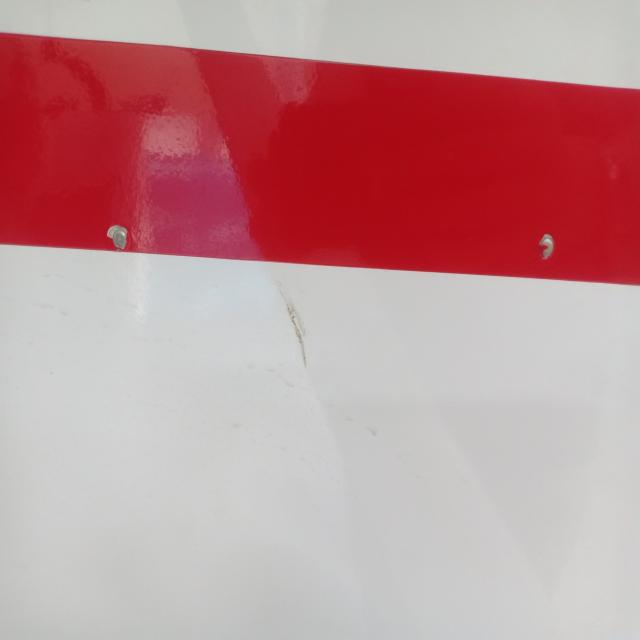Rupture: (252, 224, 324, 408), (107, 190, 166, 279), (513, 209, 563, 282)
